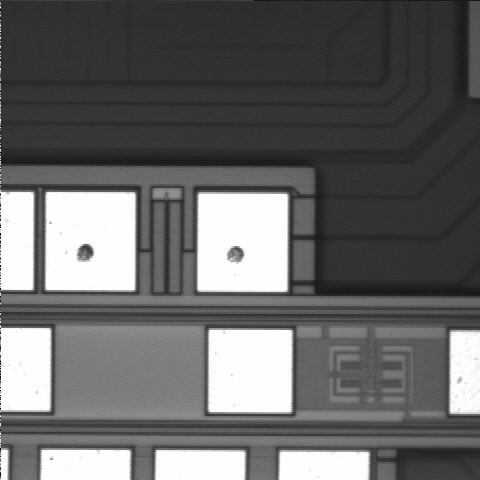pad: (198, 193, 288, 292), (46, 192, 135, 290), (209, 330, 292, 412)
